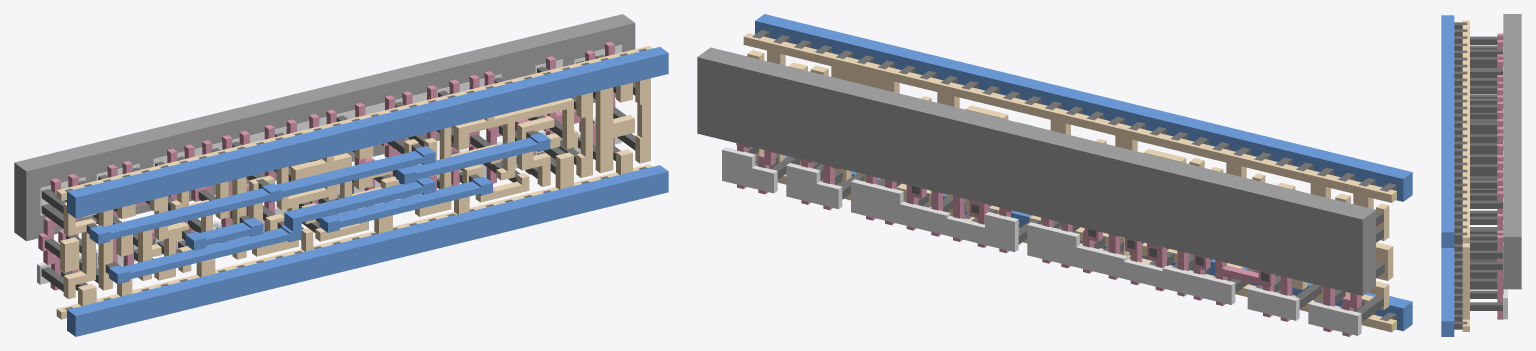
The model's file is sky130_fd_sc_hd__sdfbbp_1.gds.gltf.
3 renders of one model, left to right at view 1: azimuth 30°, elevation 25°; view 2: azimuth 150°, elevation 25°; view 3: azimuth 270°, elevation 25°, orthographic. The views are drawn at different scales.
Parts seen in each view (by area): view 1: sky130_fd_sc_hd__sdfbbp_1_met1, sky130_fd_sc_hd__sdfbbp_1_li1, sky130_fd_sc_hd__sdfbbp_1_nwell, sky130_fd_sc_hd__sdfbbp_1_poly, sky130_fd_sc_hd__sdfbbp_1_licon, sky130_fd_sc_hd__sdfbbp_1_diff, sky130_fd_sc_hd__sdfbbp_1_mcon; view 2: sky130_fd_sc_hd__sdfbbp_1_nwell, sky130_fd_sc_hd__sdfbbp_1_diff, sky130_fd_sc_hd__sdfbbp_1_li1, sky130_fd_sc_hd__sdfbbp_1_met1, sky130_fd_sc_hd__sdfbbp_1_poly, sky130_fd_sc_hd__sdfbbp_1_licon, sky130_fd_sc_hd__sdfbbp_1_mcon; view 3: sky130_fd_sc_hd__sdfbbp_1_licon, sky130_fd_sc_hd__sdfbbp_1_nwell, sky130_fd_sc_hd__sdfbbp_1_met1, sky130_fd_sc_hd__sdfbbp_1_mcon, sky130_fd_sc_hd__sdfbbp_1_li1, sky130_fd_sc_hd__sdfbbp_1_poly, sky130_fd_sc_hd__sdfbbp_1_diff.
Part boxes in pixels (<box>): sky130_fd_sc_hd__sdfbbp_1_met1: <box>67,47,668,336</box>; sky130_fd_sc_hd__sdfbbp_1_li1: <box>56,46,652,319</box>; sky130_fd_sc_hd__sdfbbp_1_nwell: <box>14,14,635,241</box>; sky130_fd_sc_hd__sdfbbp_1_poly: <box>38,42,615,290</box>; sky130_fd_sc_hd__sdfbbp_1_licon: <box>41,55,635,291</box>; sky130_fd_sc_hd__sdfbbp_1_diff: <box>37,44,621,284</box>; sky130_fd_sc_hd__sdfbbp_1_mcon: <box>64,48,646,310</box>; sky130_fd_sc_hd__sdfbbp_1_nwell: <box>697,47,1375,295</box>; sky130_fd_sc_hd__sdfbbp_1_diff: <box>722,147,1361,335</box>; sky130_fd_sc_hd__sdfbbp_1_li1: <box>743,33,1396,332</box>; sky130_fd_sc_hd__sdfbbp_1_met1: <box>755,14,1412,331</box>; sky130_fd_sc_hd__sdfbbp_1_poly: <box>736,143,1361,336</box>; sky130_fd_sc_hd__sdfbbp_1_licon: <box>748,77,1384,321</box>; sky130_fd_sc_hd__sdfbbp_1_mcon: <box>752,30,1396,320</box>; sky130_fd_sc_hd__sdfbbp_1_licon: <box>1470,36,1502,310</box>; sky130_fd_sc_hd__sdfbbp_1_nwell: <box>1503,14,1521,289</box>; sky130_fd_sc_hd__sdfbbp_1_met1: <box>1441,15,1454,336</box>; sky130_fd_sc_hd__sdfbbp_1_mcon: <box>1454,22,1467,329</box>; sky130_fd_sc_hd__sdfbbp_1_li1: <box>1462,20,1469,331</box>; sky130_fd_sc_hd__sdfbbp_1_poly: <box>1497,33,1503,319</box>; sky130_fd_sc_hd__sdfbbp_1_diff: <box>1503,46,1507,319</box>.
Bounding box in the file's own units: 14.64 × 3.2 × 2.24.
